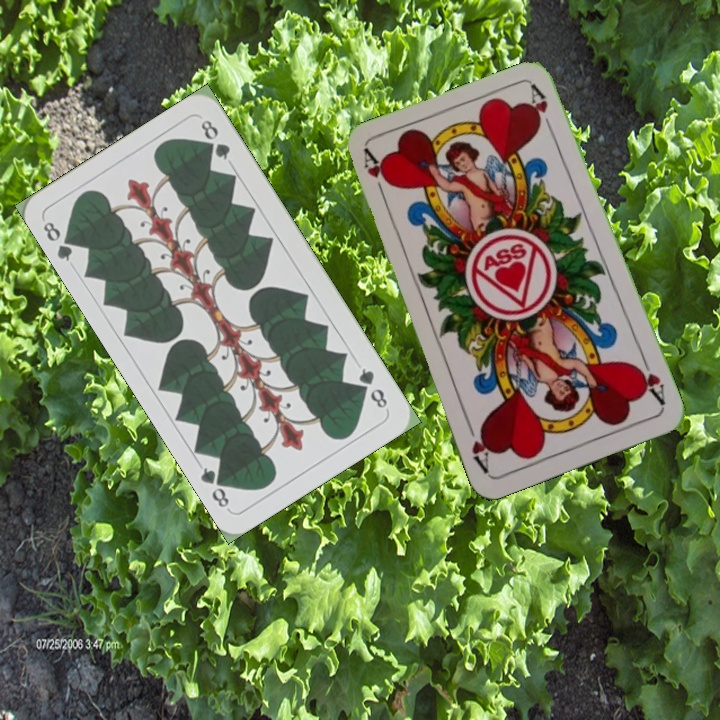G8: (38, 217, 80, 264), (354, 363, 391, 411)
HA: (631, 353, 668, 409), (359, 146, 394, 204)
